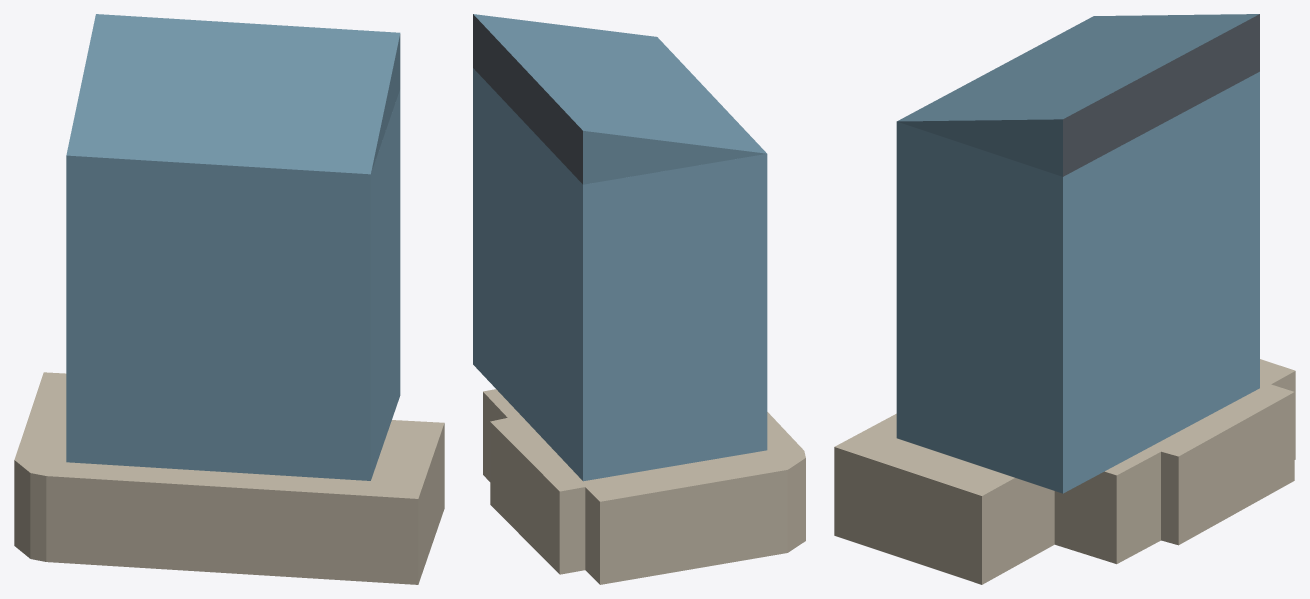
File: dominion-energy-tower-600-canal-place.glb
3 renders of one model, left to right at view 1: azimuth 30°, elevation 25°; view 2: azimuth 150°, elevation 25°; view 3: azimuth 270°, elevation 25°, orthographic. The views are drawn at different scales.
Visible parts, largest first — view 1: tower, body, dominion-energy-tower-600-canal-place_2, dominion-energy-tower-600-canal-place_4; view 2: tower, body, dominion-energy-tower-600-canal-place_2, dominion-energy-tower-600-canal-place_3, dominion-energy-tower-600-canal-place_5; view 3: tower, body, dominion-energy-tower-600-canal-place_2, dominion-energy-tower-600-canal-place_3, dominion-energy-tower-600-canal-place_4.
Part boxes in pixels (x1,y1,x2,y2): tower: (66,89,400,480); body: (14,372,444,584); dominion-energy-tower-600-canal-place_2: (66,14,400,174); dominion-energy-tower-600-canal-place_4: (371,34,400,172); tower: (473,68,767,481); body: (483,389,805,584); dominion-energy-tower-600-canal-place_2: (473,14,766,153); dominion-energy-tower-600-canal-place_3: (473,14,582,184); dominion-energy-tower-600-canal-place_5: (583,131,766,184); tower: (896,71,1259,493); body: (834,359,1295,584); dominion-energy-tower-600-canal-place_2: (897,14,1259,121); dominion-energy-tower-600-canal-place_3: (1063,14,1259,176); dominion-energy-tower-600-canal-place_4: (897,119,1062,176).
Size of the model in its own units: 81.52 by 96.5 by 87.15.
